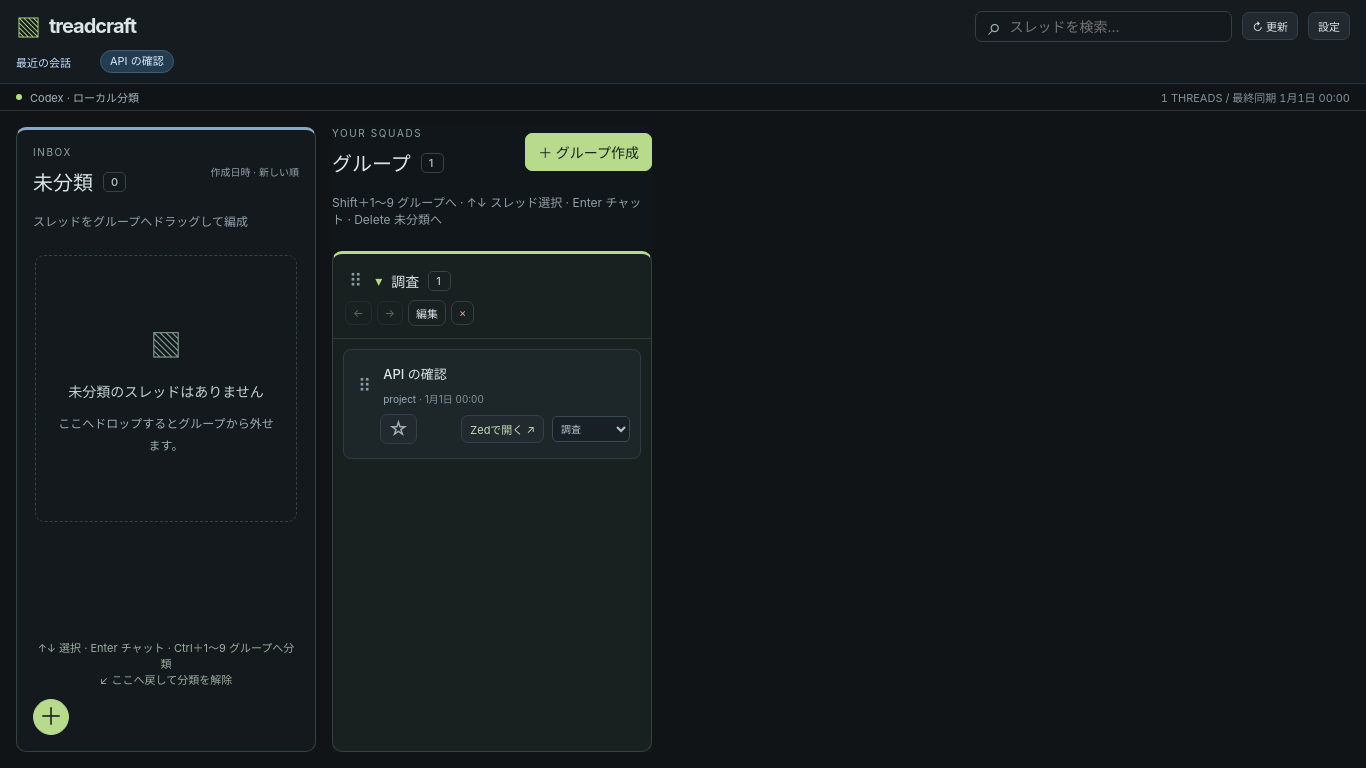
Scenario: opens the chat on click and closes it without changing classification
The image size is (1366, 768).
What coordinates should you click on to do the following:
click the button with aria-label "API の確認 のチャットを表示"
I would click on:
 (507, 385)
Its box is 383,364 -> 630,406.
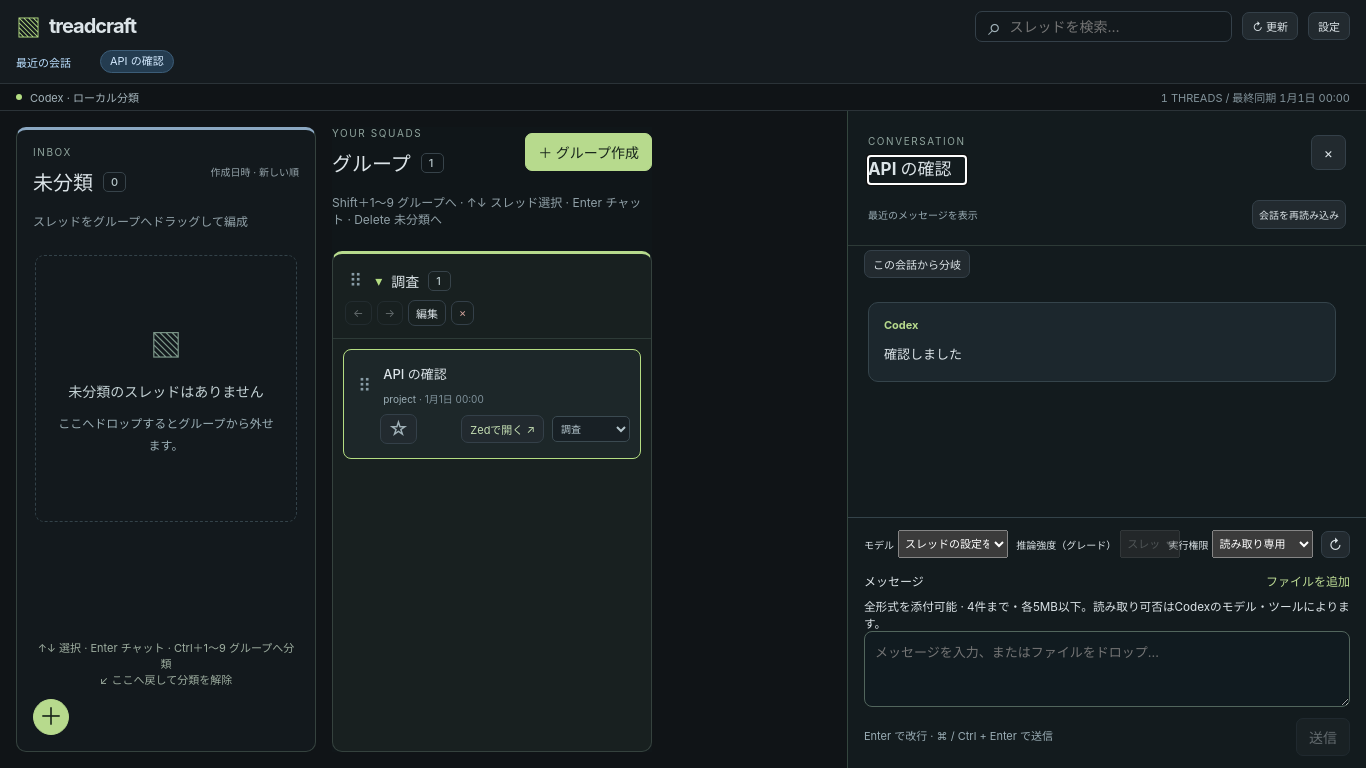
Now the text "確認しました" is shown, box 884,346 -> 962,362
What coordinates should you click on to do the following:
click the button named "チャット欄を閉じる"
I would click on:
 (1328, 153)
Its box is 1311,135 -> 1346,170.
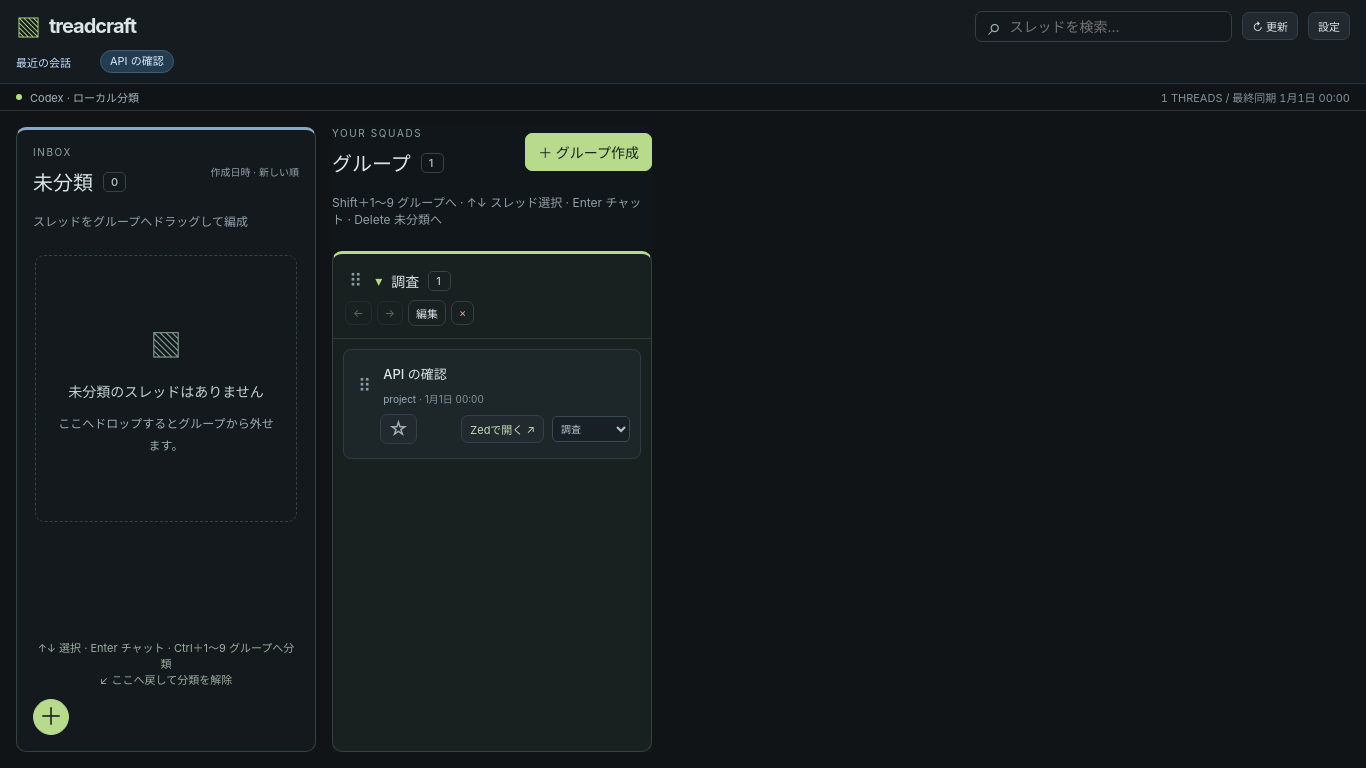
Now the element "チャット内容" is gone
